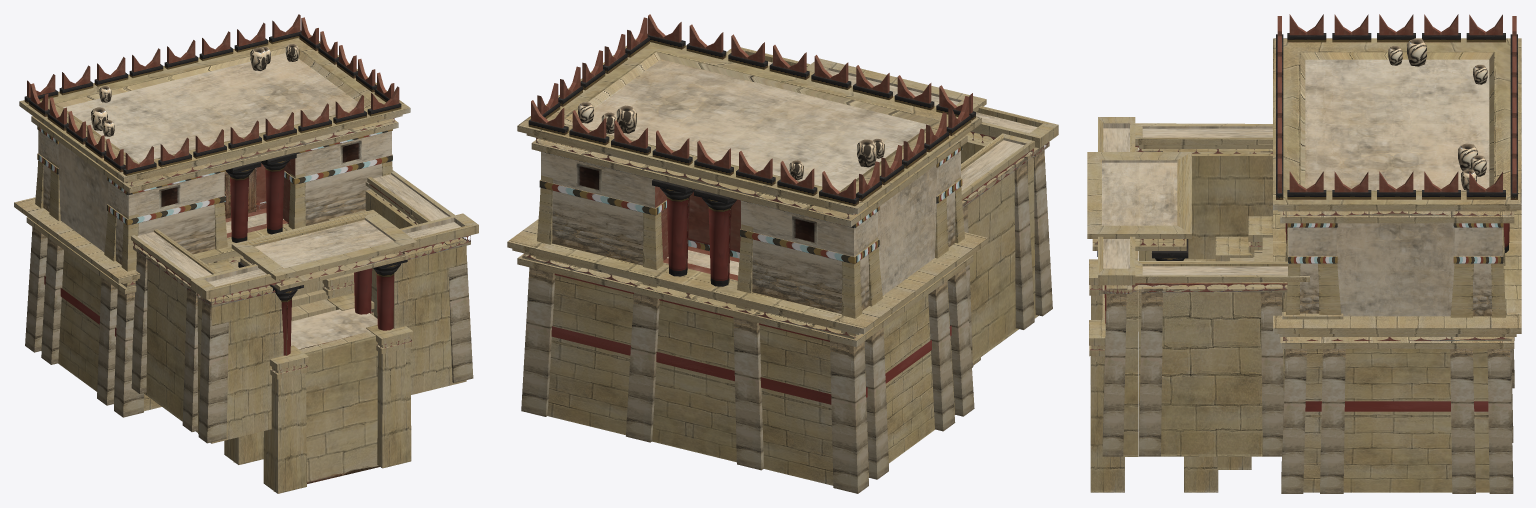
The model's file is mino_barracks.dae.
3 renders of one model, left to right at view 1: azimuth 30°, elevation 25°; view 2: azimuth 150°, elevation 25°; view 3: azimuth 270°, elevation 25°, orthographic. The views are drawn at different scales.
Visible parts, largest first — view 1: Cube_006; view 2: Cube_006; view 3: Cube_006.
Boxes of the visible parts, x1,y1,x2,y2 form: Cube_006: (14,14,478,493); Cube_006: (507,14,1058,493); Cube_006: (1087,14,1521,493).
Size of the model in its own units: 22.93 by 24.15 by 22.17.
